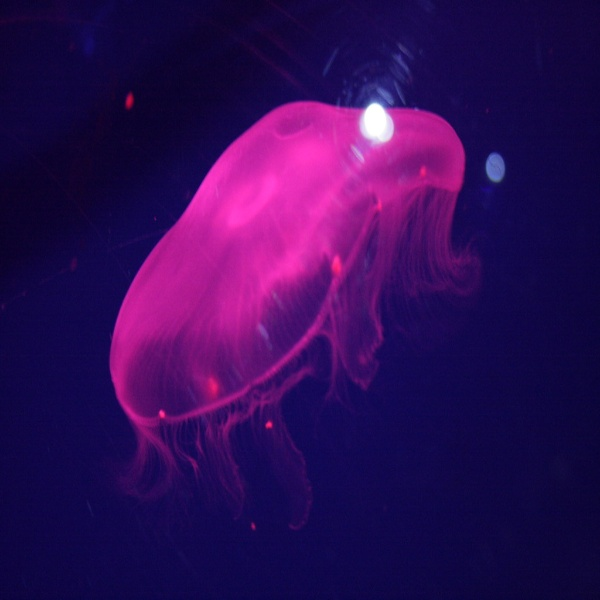Jellyfish: (108, 93, 482, 534)
